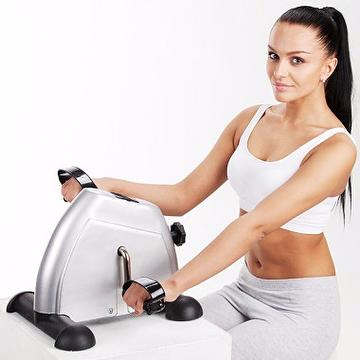gym_bike: (8, 163, 202, 349)
